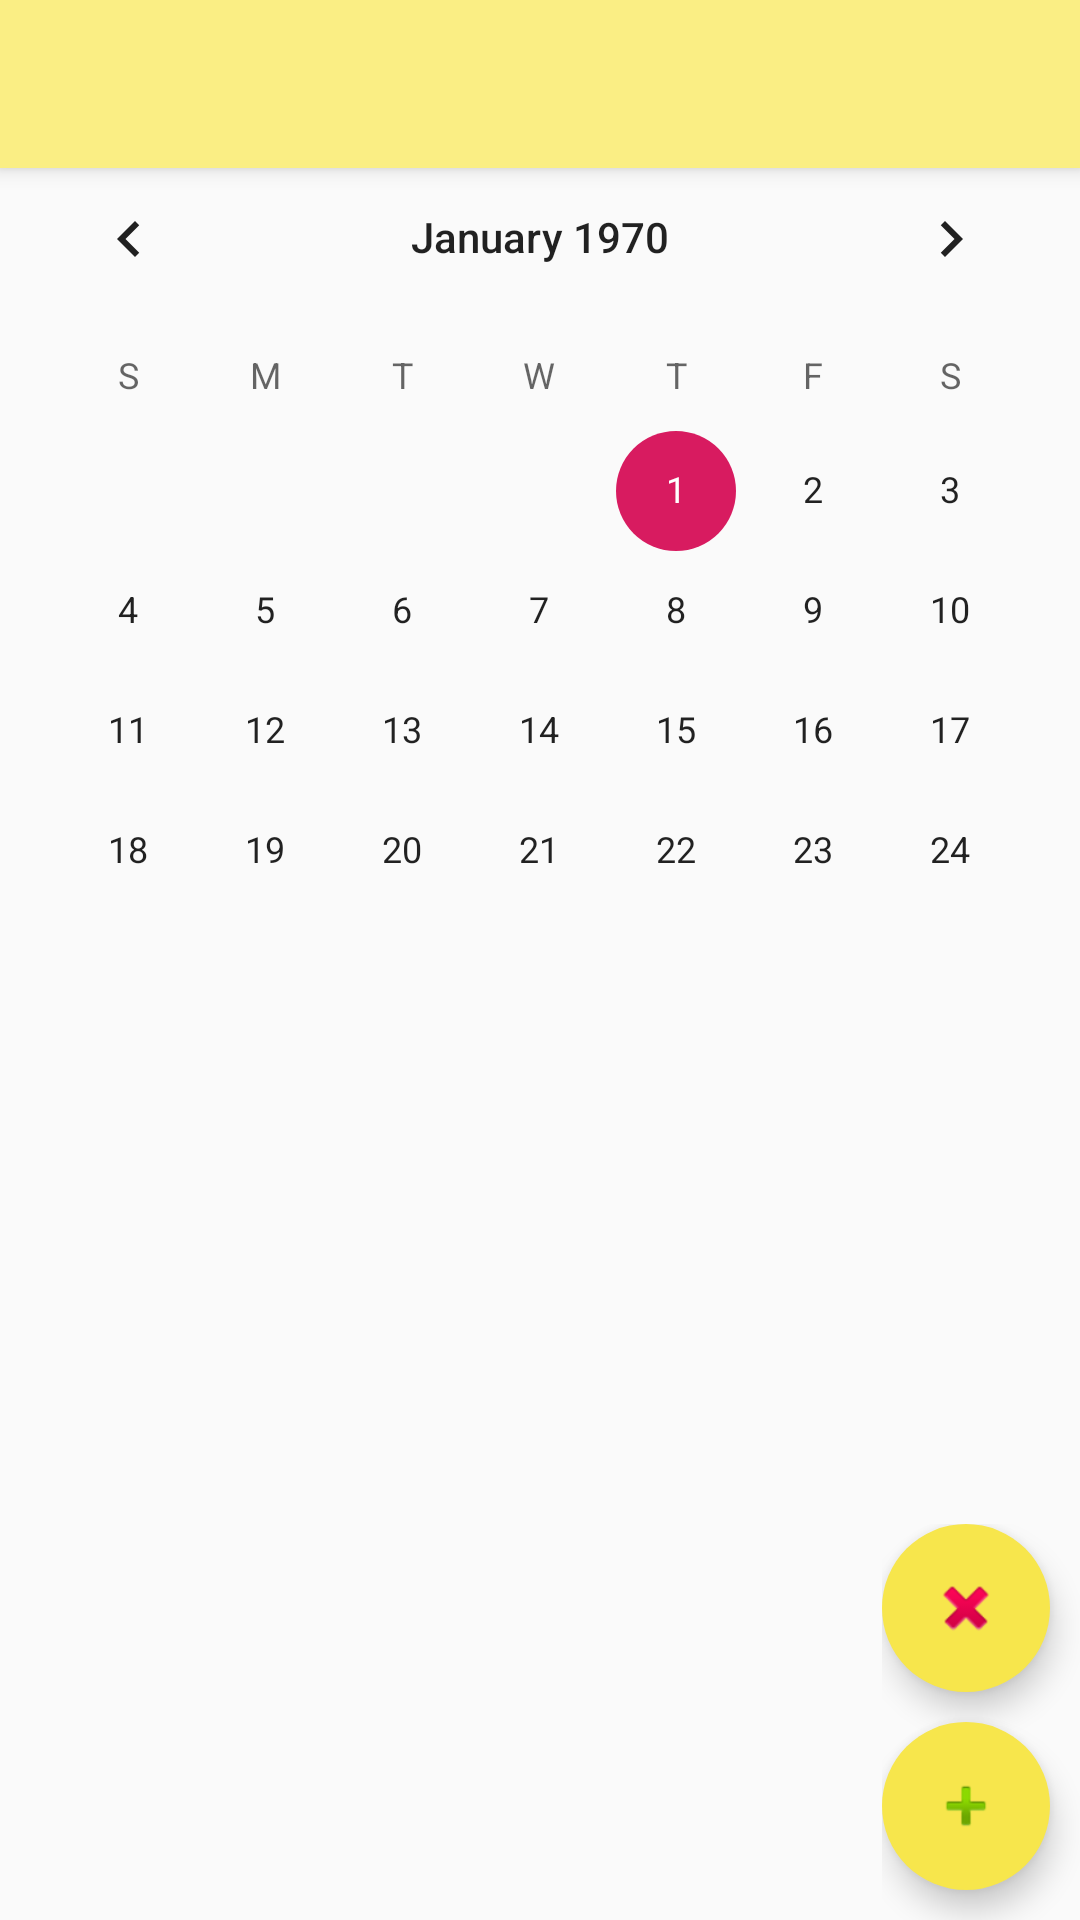

Screen size 1080px x 1920px. Icon name, then its center in pixels as (x=x, y=y):
add: (x=966, y=1806)
delete: (x=966, y=1608)
